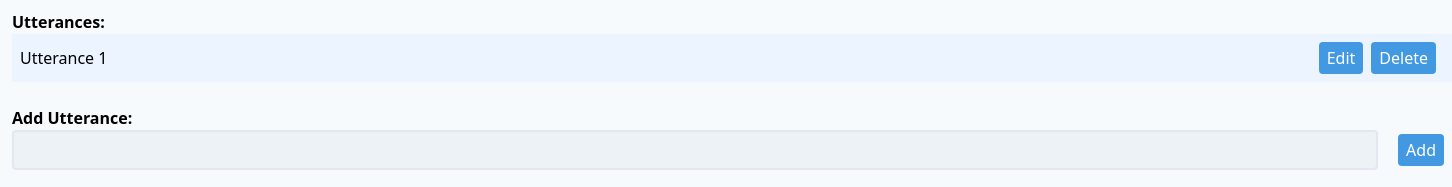
utterance list › changes interface while editing an utterance
Expected: the text "Save" is not shown
Expected: the text "Cancel" is not shown
Click the button "Edit".
click(1341, 58)  # box [1319, 42, 1363, 74]
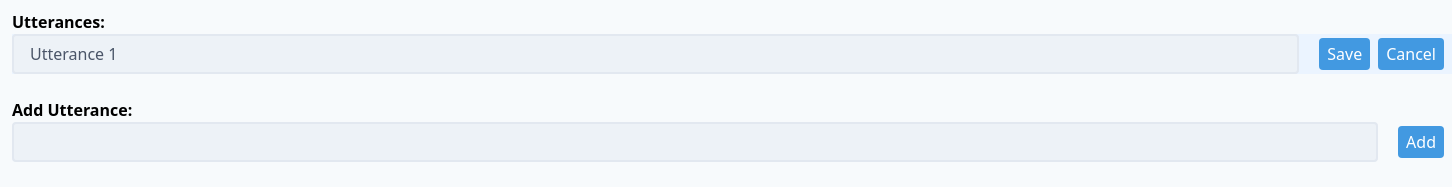
Expected: the button "Edit" is gone
Expected: the button "Save" is shown, [1319, 38, 1370, 70]
Expected: the button "Cancel" is shown, [1378, 38, 1444, 70]
